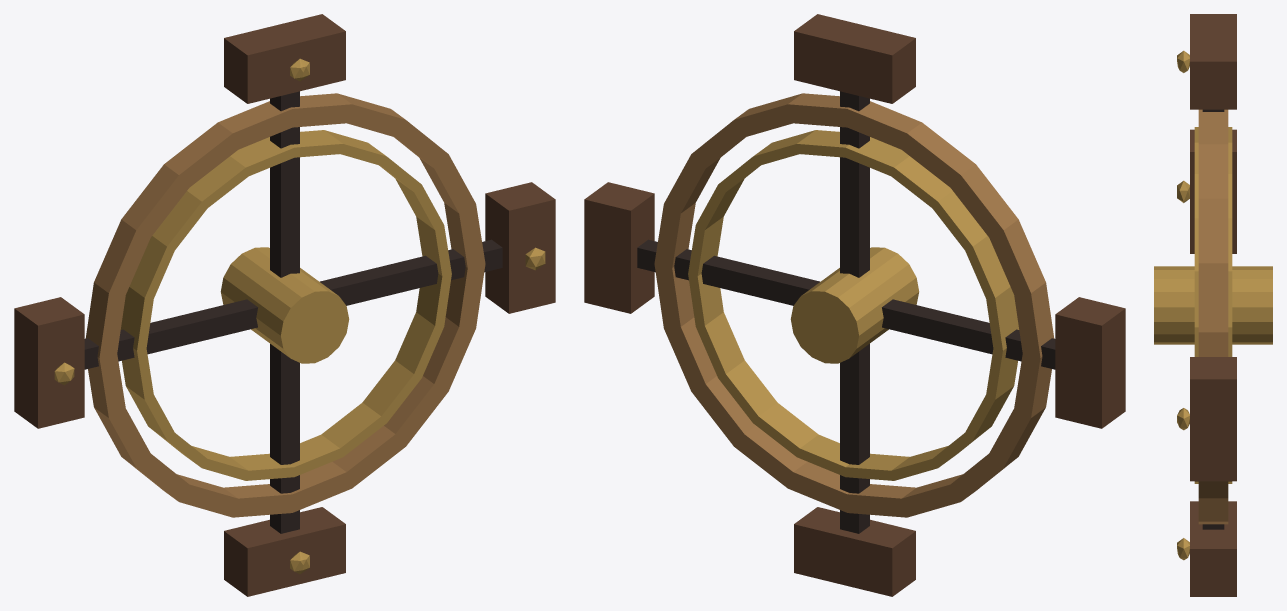
The model's file is PirateCove_TidewheelRotor_Showcase.glb.
3 renders of one model, left to right at view 1: azimuth 30°, elevation 25°; view 2: azimuth 150°, elevation 25°; view 3: azimuth 270°, elevation 25°, orthographic.
Visible parts, largest first — view 1: PirateCove_TidewheelRotor_Showcase; view 2: PirateCove_TidewheelRotor_Showcase; view 3: PirateCove_TidewheelRotor_Showcase.
Boxes of the visible parts, <box> form: PirateCove_TidewheelRotor_Showcase: <box>14,14,555,596</box>; PirateCove_TidewheelRotor_Showcase: <box>584,14,1125,596</box>; PirateCove_TidewheelRotor_Showcase: <box>1154,14,1272,596</box>.
Bounding box in the file's own units: 3.78 × 3.78 × 0.76.
